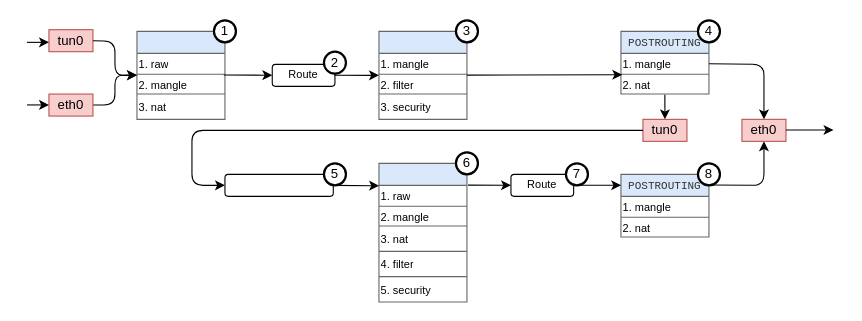
The diagram is 862 pixels wide and 321 high, and some of its shapes have lost their labels. Each missing label, with the box of its shape:
FORWARD: (378, 30, 467, 119)
Local Processes: (224, 173, 333, 196)
OUTPUT: (378, 162, 467, 302)
PREROUTING: (136, 30, 225, 119)
